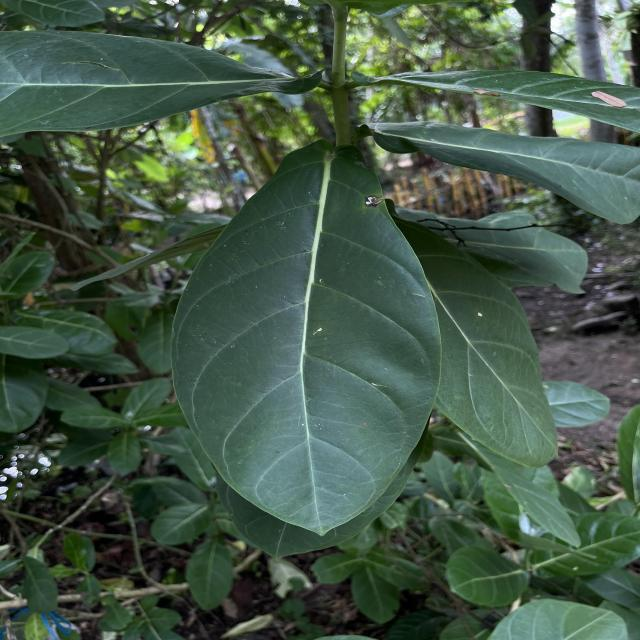Calotropis gigantea: (164, 138, 449, 540), (413, 242, 568, 470)
